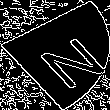N_NW: (13, 23, 97, 87)
